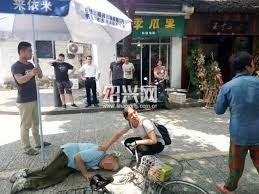falling: (5, 136, 125, 193)
